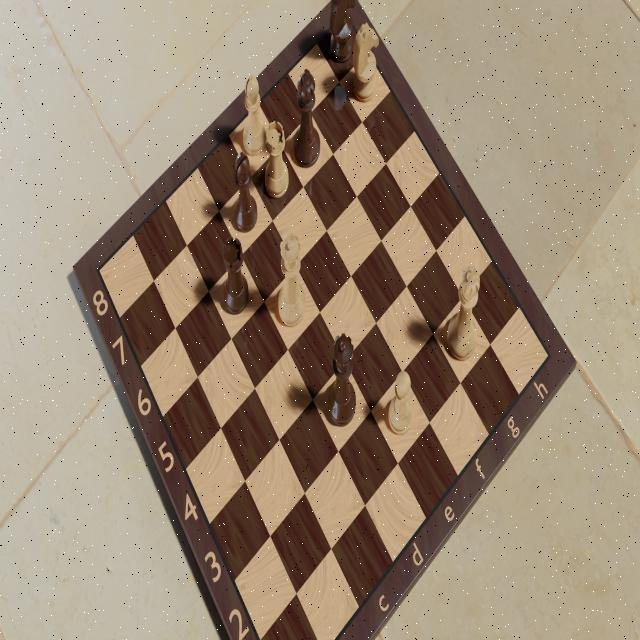black-bishop: (231, 151, 261, 236)
black-king: (290, 69, 320, 173)
black-knight: (328, 2, 358, 67)
black-queen: (324, 328, 358, 431)
black-rook: (221, 229, 251, 317)
white-bishop: (237, 72, 269, 159)
white-king: (444, 263, 480, 364)
white-knight: (354, 20, 382, 107)
white-pawn: (387, 367, 417, 440)
white-queen: (275, 231, 307, 333)
white-rook: (264, 116, 292, 204)
